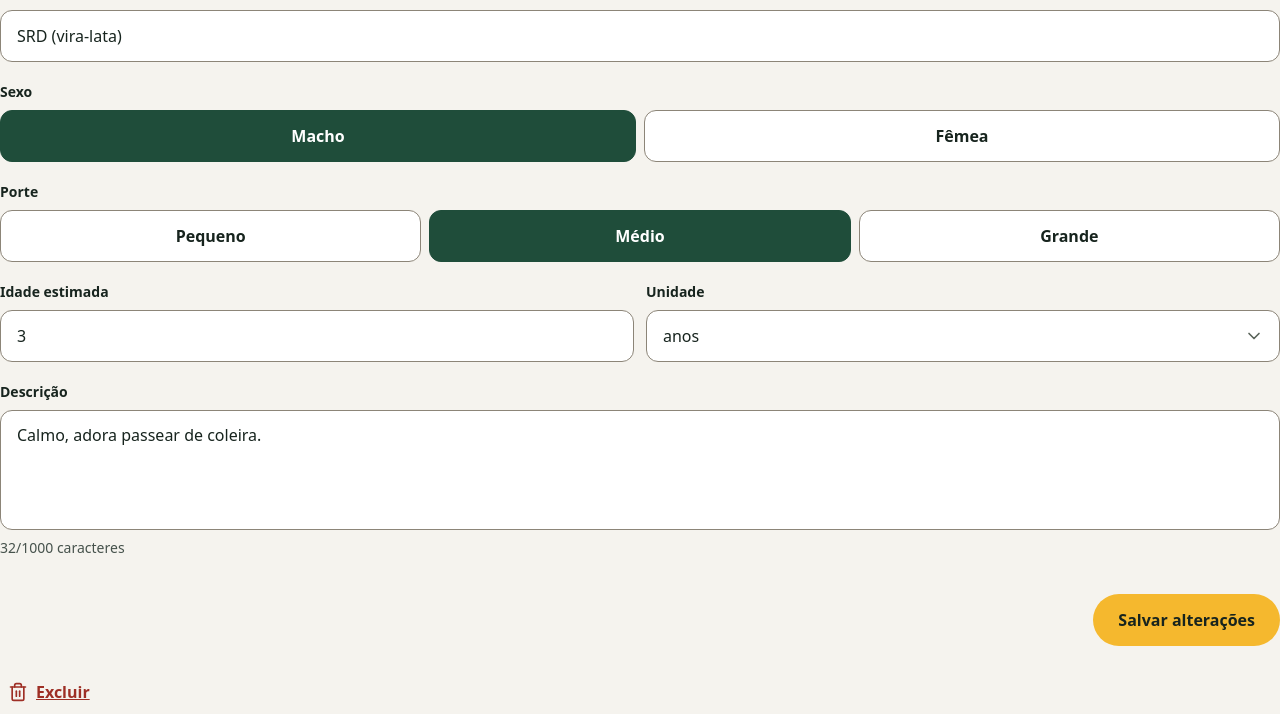
Scenario: AnimalForm › AFORM-15: o modo edição tem "Excluir", que abre o diálogo do animal
This screenshot has width=1280, height=714.
(page scrolled)
Click the button "Excluir" at [49, 692], box [0,670,98,713]
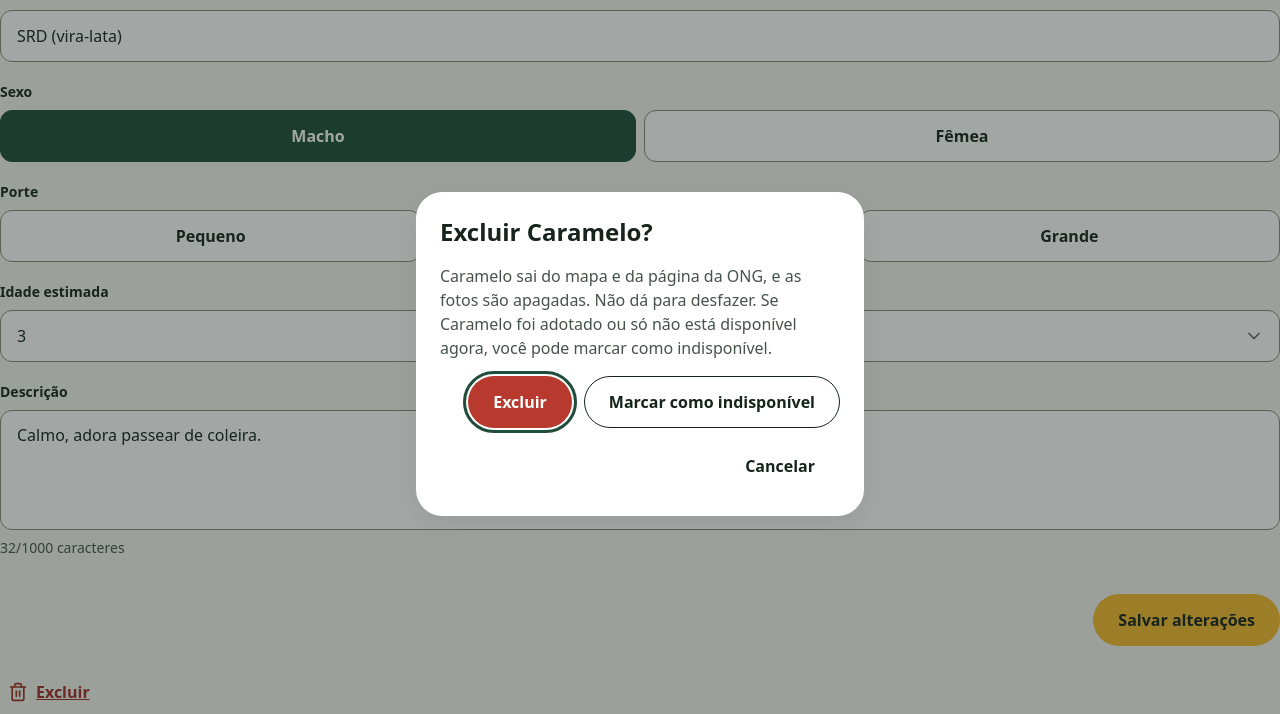
Check: the dialog "Excluir Caramelo?" is shown, box [416,192,864,516]
